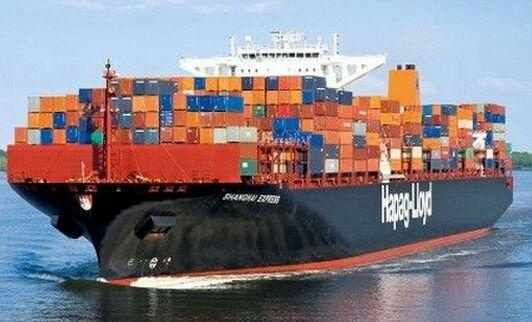Cargoship: (6, 31, 519, 281)
